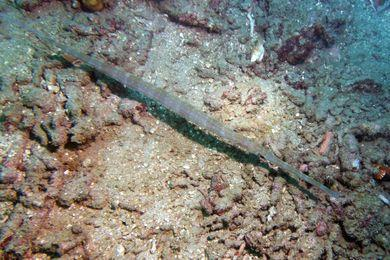Fistularia commersonii: (26, 16, 351, 206)
